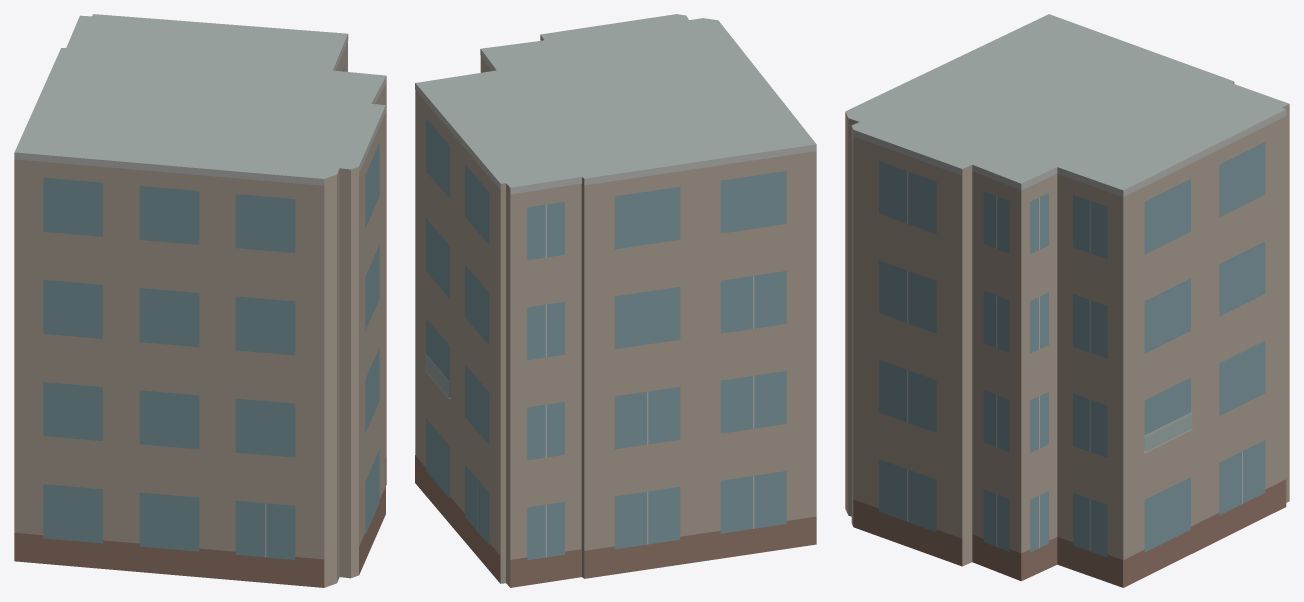
Rendered from survey-upis-32897563.glb.
3 renders of one model, left to right at view 1: azimuth 30°, elevation 25°; view 2: azimuth 150°, elevation 25°; view 3: azimuth 270°, elevation 25°, orthographic. The views are drawn at different scales.
Parts seen in each view (by area): view 1: survey-upis-32897563.tmp; view 2: survey-upis-32897563.tmp; view 3: survey-upis-32897563.tmp.
Boxes of the visible parts, x1,y1,x2,y2 form: survey-upis-32897563.tmp: (14,14,386,587); survey-upis-32897563.tmp: (415,14,816,587); survey-upis-32897563.tmp: (845,14,1289,587).
Size of the model in its own units: 13.88 by 14.57 by 14.77.
